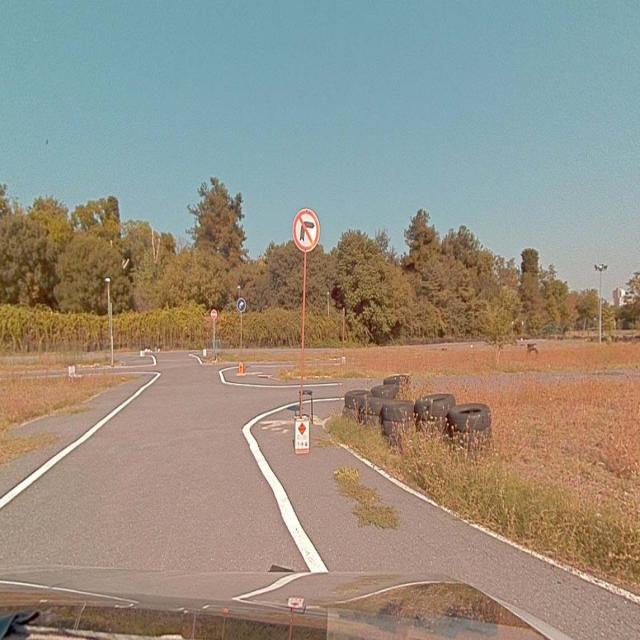girisyok: (210, 309, 217, 319)
sag: (237, 298, 246, 311)
sagadonulmez: (293, 209, 320, 250)
